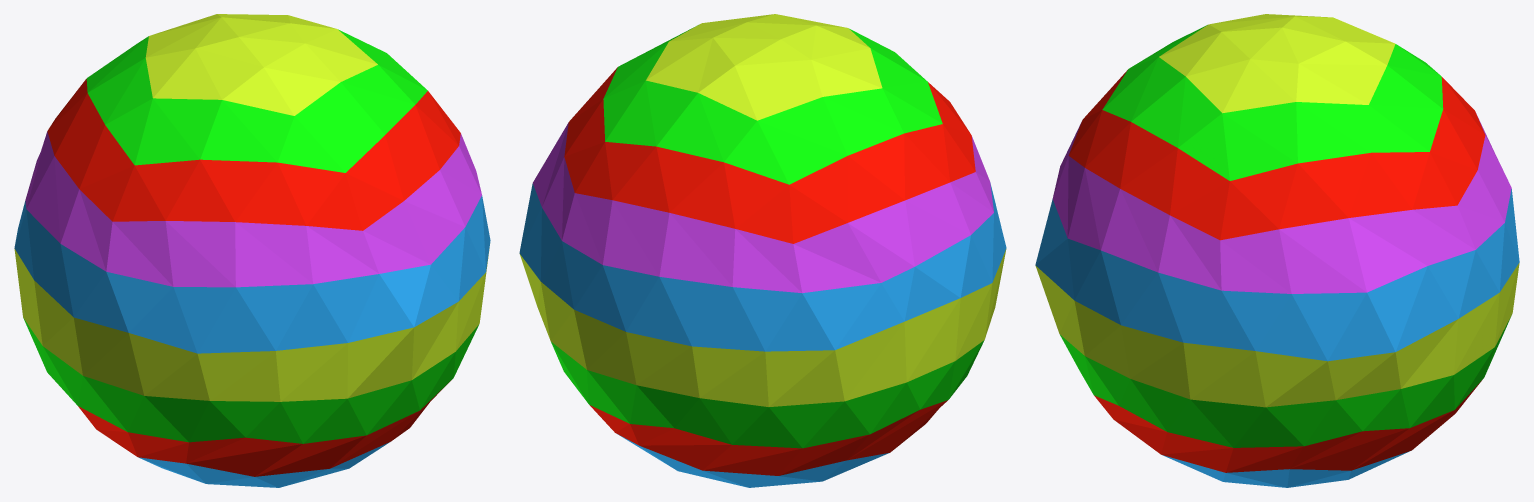
The model's file is RainBow_Planet.fbx.
3 views of the same model, side by side, from view 1: azimuth 30°, elevation 25°; view 2: azimuth 150°, elevation 25°; view 3: azimuth 270°, elevation 25° (orthographic).
Parts seen in each view (by area): view 1: Icosphere; view 2: Icosphere; view 3: Icosphere.
Boxes of the visible parts, <box> form: Icosphere: <box>14,14,490,487</box>; Icosphere: <box>519,14,1006,487</box>; Icosphere: <box>1035,14,1519,487</box>.
Bounding box in the file's own units: 201 × 200 × 203.
